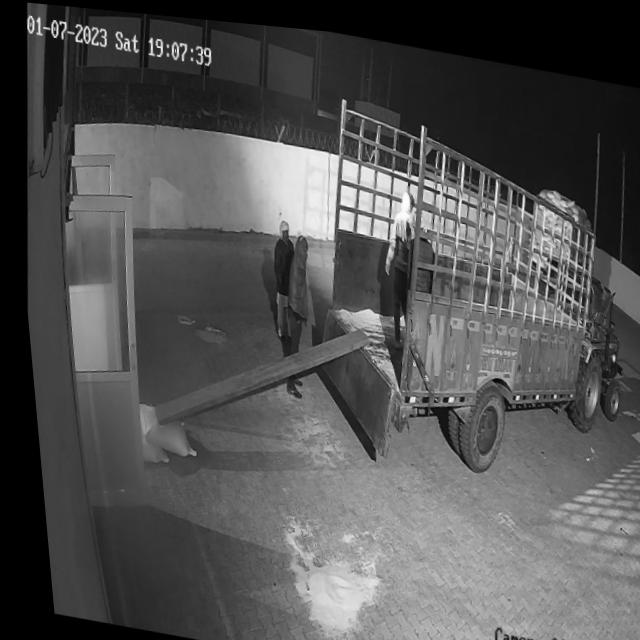sack: (128, 401, 192, 456)
